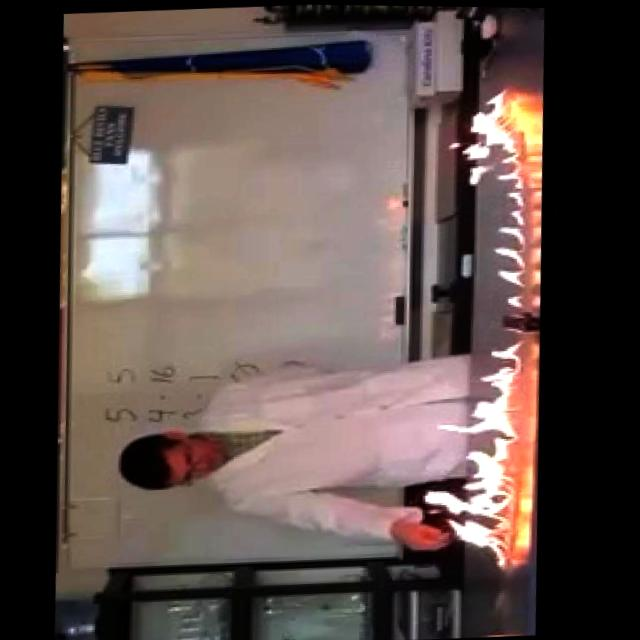Smoke: (413, 334, 539, 569), (440, 88, 539, 191)
